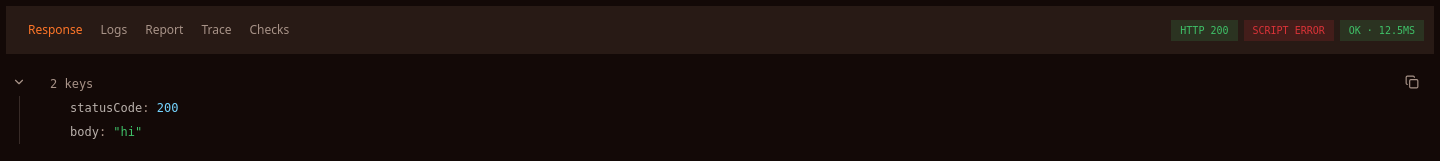
Test case: chips a script that threw before asserting anything as an error, not a no-op
The width and height of the screenshot is (1440, 161).
Expected: the text "script error" is shown, [1244,20,1334,40]
Click the tab "Checks".
click(269, 30)  # box [240,16,298,44]
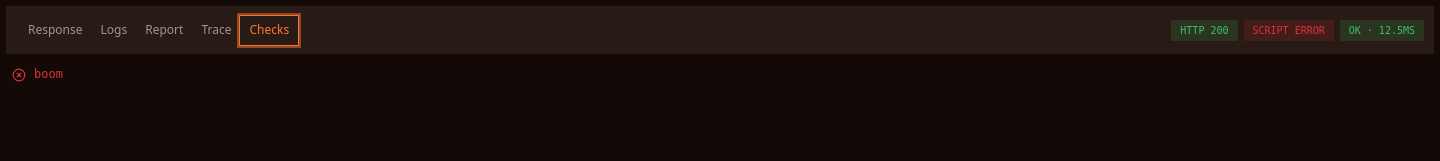
Now the text "boom" is shown, box [34,66,63,82]
Now the picture named "Script error" is shown, box [12,68,26,82]
